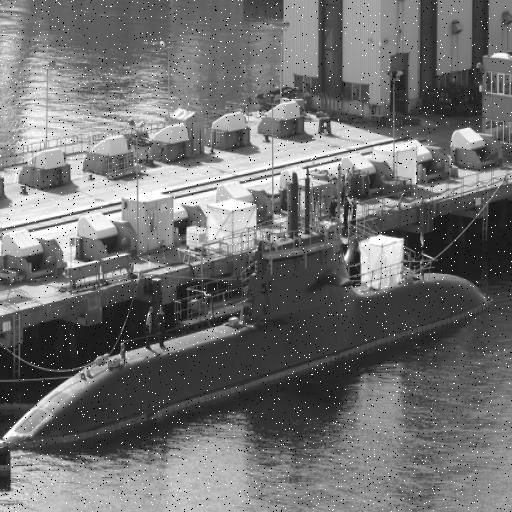submarine: (7, 203, 493, 445)
